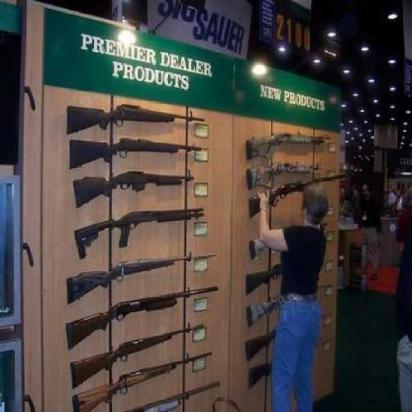Gun: (55, 101, 210, 132), (62, 137, 205, 168), (73, 169, 197, 203)
